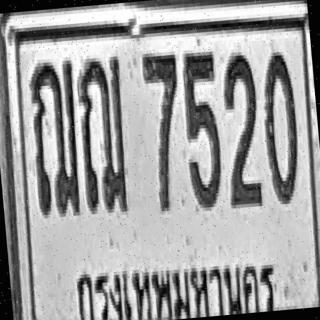A12: (73, 53, 133, 214), (26, 57, 85, 218)
N00: (258, 48, 303, 205)
N02: (217, 48, 265, 208)
N05: (178, 49, 226, 210)
N07: (140, 48, 188, 212)
P04: (70, 242, 279, 320)
